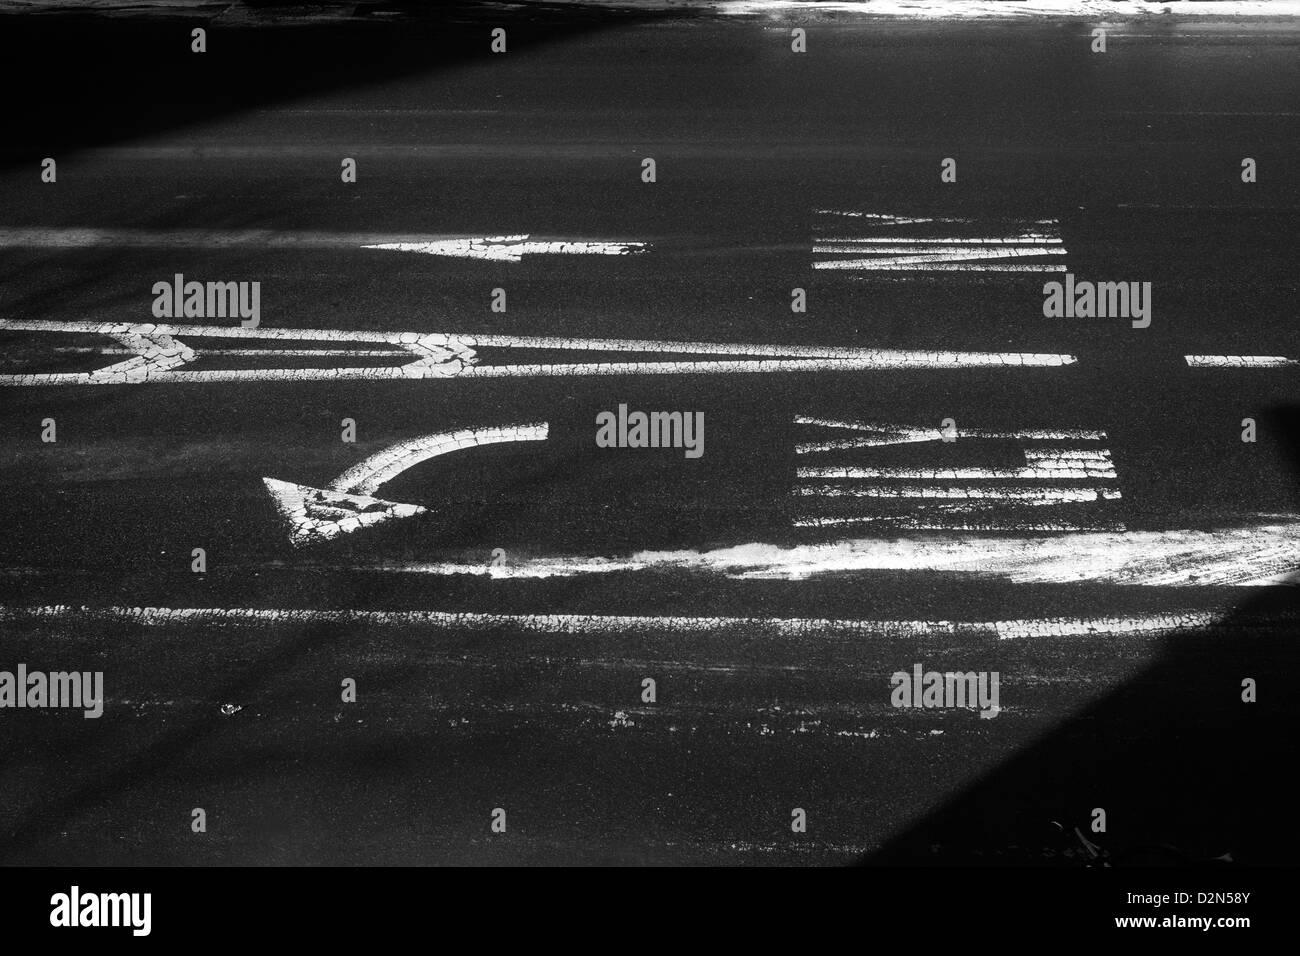faded_road_lines: (0, 309, 1075, 400), (7, 592, 1300, 655), (349, 519, 1300, 592), (782, 404, 1131, 542), (246, 417, 558, 559), (802, 203, 1073, 284), (361, 231, 652, 269), (1178, 355, 1296, 381)
